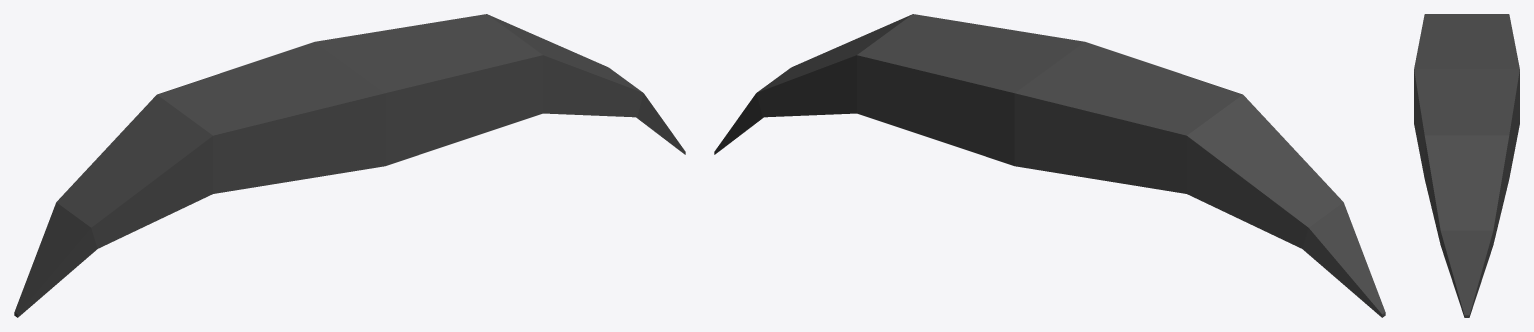
File: ModularSwordKit_Parierstange02.fbx
3 views of the same model, side by side, from view 1: azimuth 30°, elevation 25°; view 2: azimuth 150°, elevation 25°; view 3: azimuth 270°, elevation 25° (orthographic). The views are drawn at different scales.
Parts seen in each view (by area): view 1: Parierstange02; view 2: Parierstange02; view 3: Parierstange02.
Boxes of the visible parts, box(x1,y1,x2,y2) form: Parierstange02: box(14, 14, 685, 317); Parierstange02: box(714, 14, 1385, 317); Parierstange02: box(1414, 14, 1519, 317).
Size of the model in its own units: 77.24 by 18.54 by 14.09.
